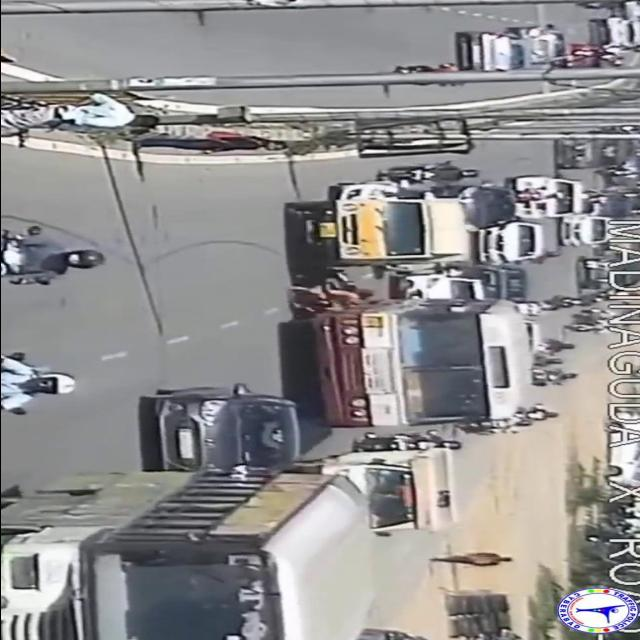accident: (278, 188, 550, 435)
non_accident: (0, 376, 467, 640), (470, 135, 640, 270), (439, 1, 640, 73)
